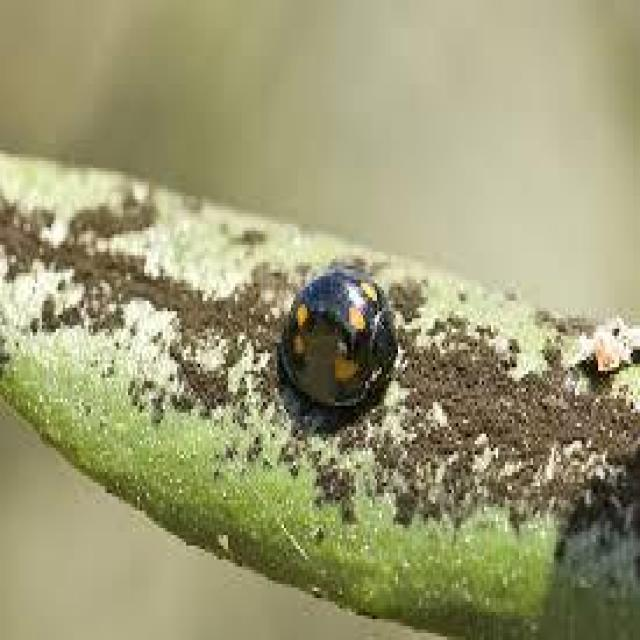BlackScale: (280, 266, 396, 412)
